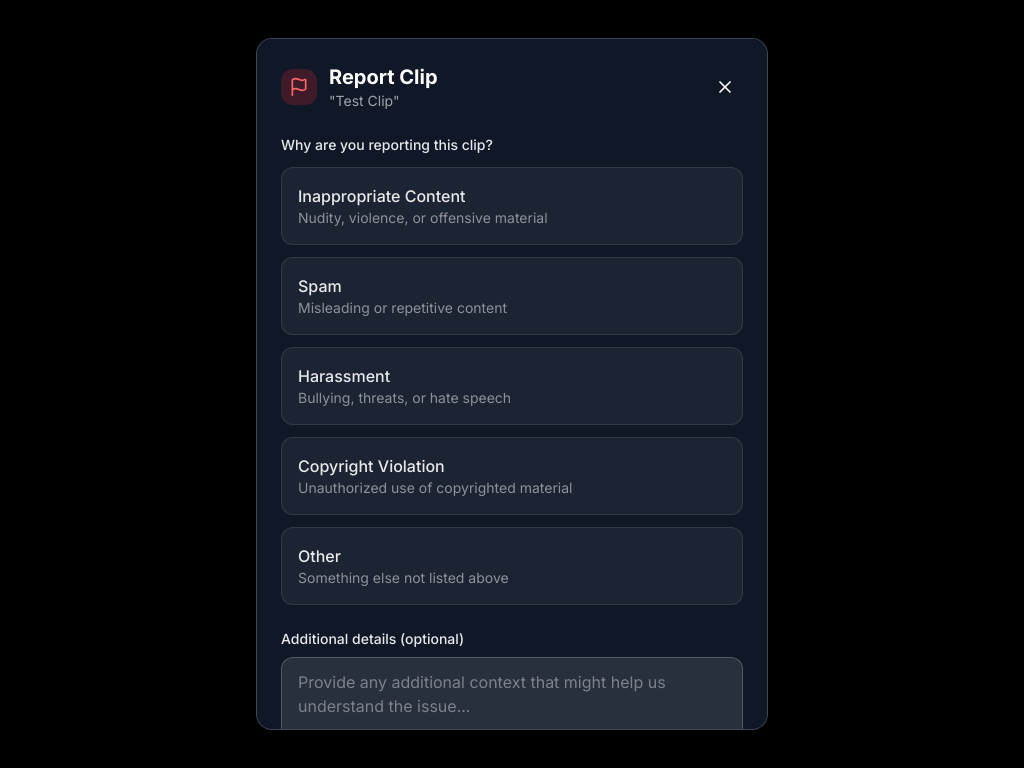
ReportModal › shows character count for additional details textarea
Replace the text in the text box with placeholder "Provide any additional context" with "Some text here" at [512, 706], box [281,657,743,755]
(page scrolled)
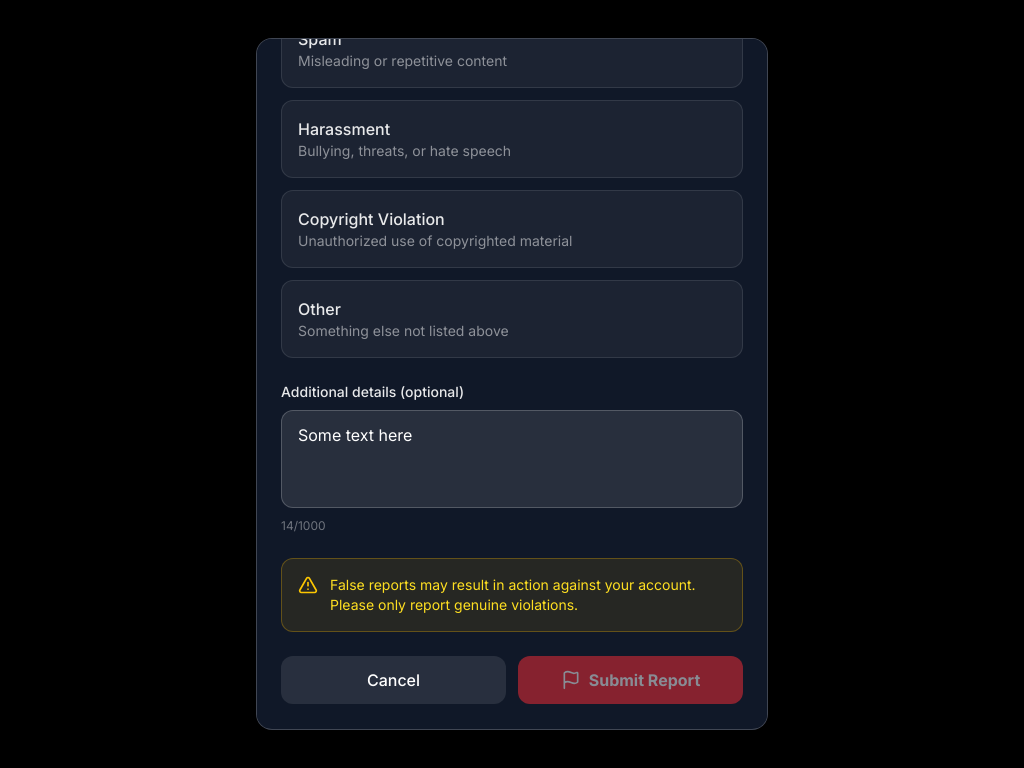
Expected: the text "14/1000" is shown, [281,518,326,533]
